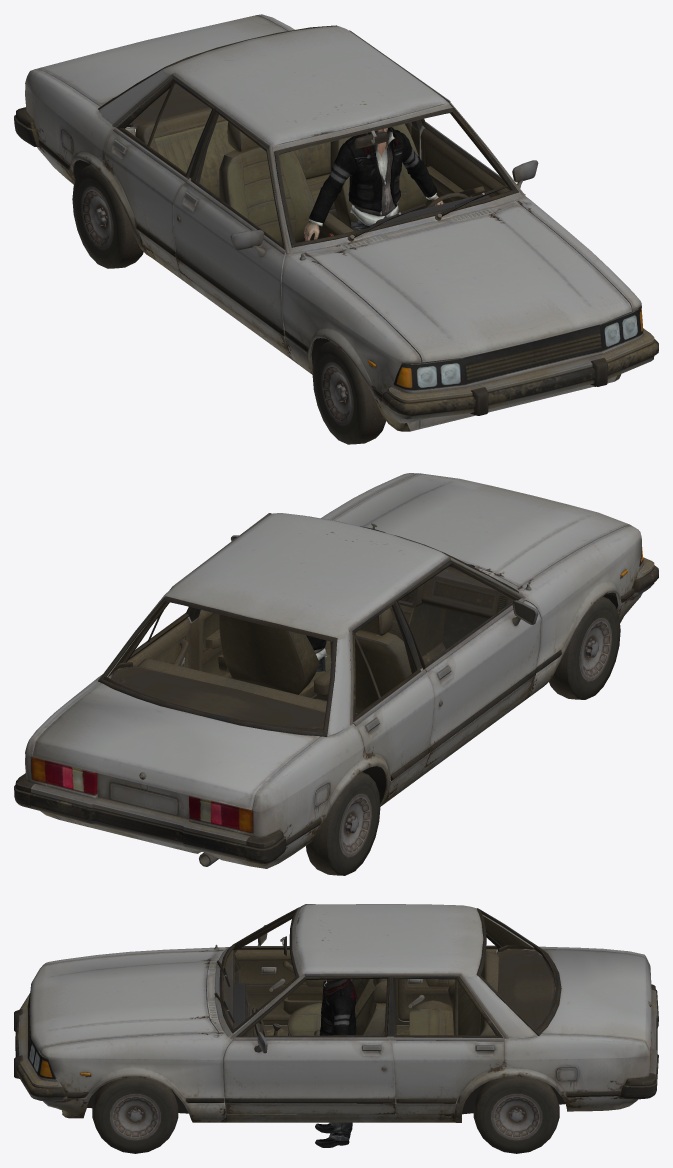
The model's file is Car.glb.
3 renders of one model, top to bottom at view 1: azimuth 30°, elevation 25°; view 2: azimuth 150°, elevation 25°; view 3: azimuth 270°, elevation 25°, orthographic. The views are drawn at different scales.
Parts seen in each view (by area): view 1: car_noname1; view 2: car_noname1; view 3: car_noname1.
Part boxes in pixels (x1=…): car_noname1: x1=14, y1=14, x2=658, y2=444; car_noname1: x1=14, y1=473, x2=658, y2=875; car_noname1: x1=14, y1=904, x2=658, y2=1153.
Size of the model in its own units: 2.53 by 1.9 by 5.81.
Materials: 4 (4 with a texture image).
